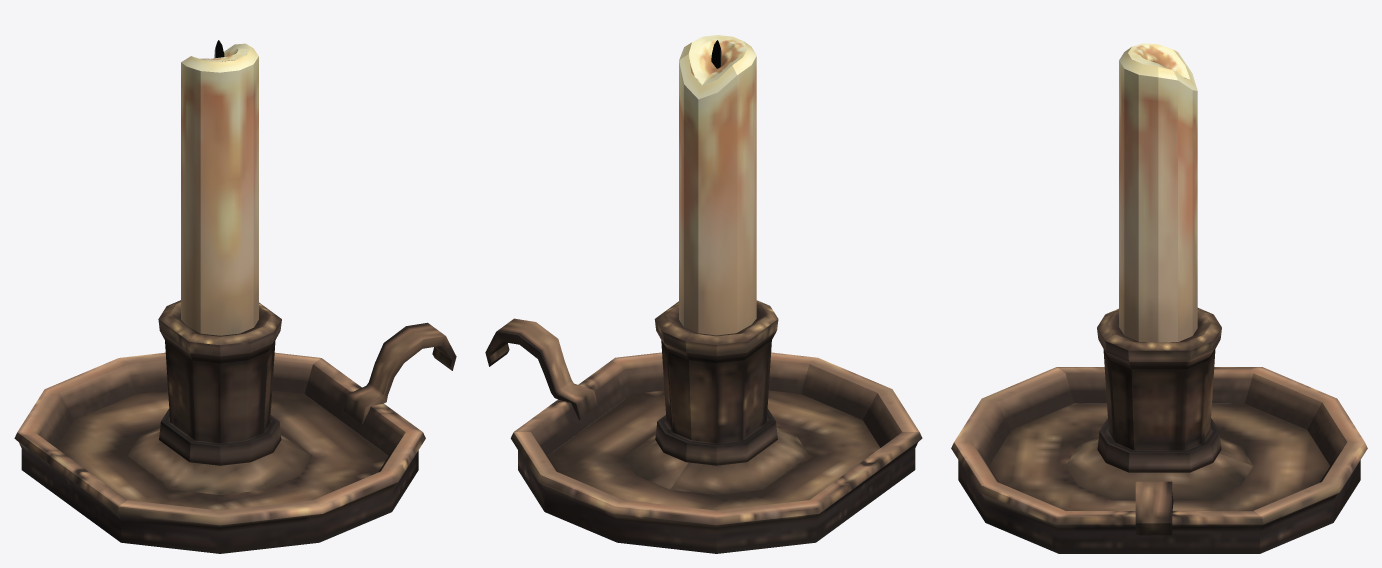
The model's file is GregsChambercandlestick.fbx.
3 renders of one model, left to right at view 1: azimuth 30°, elevation 25°; view 2: azimuth 150°, elevation 25°; view 3: azimuth 270°, elevation 25°, orthographic.
Visible parts, largest first — view 1: Candle; view 2: Candle; view 3: Candle.
Part boxes in pixels (x1,y1,x2,y2): Candle: (14, 40, 456, 553); Candle: (485, 35, 922, 553); Candle: (951, 43, 1367, 553).
Bounding box in the file's own units: 1.11 × 1.27 × 1.05.
